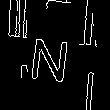N_N: (32, 27, 78, 83)
